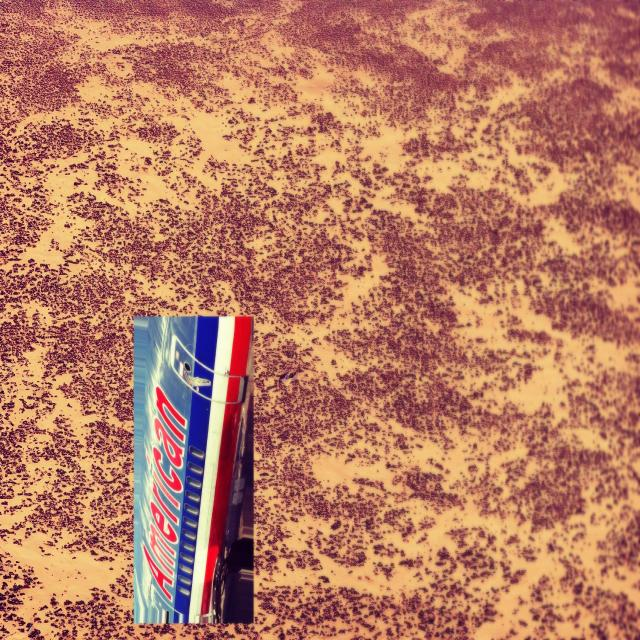airplane: (132, 313, 254, 626)
